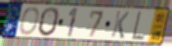1: (67, 7, 79, 39)
7: (88, 10, 105, 38)
K: (110, 10, 131, 40)
L: (131, 10, 146, 42)
O: (38, 6, 61, 38), (18, 6, 41, 37)
